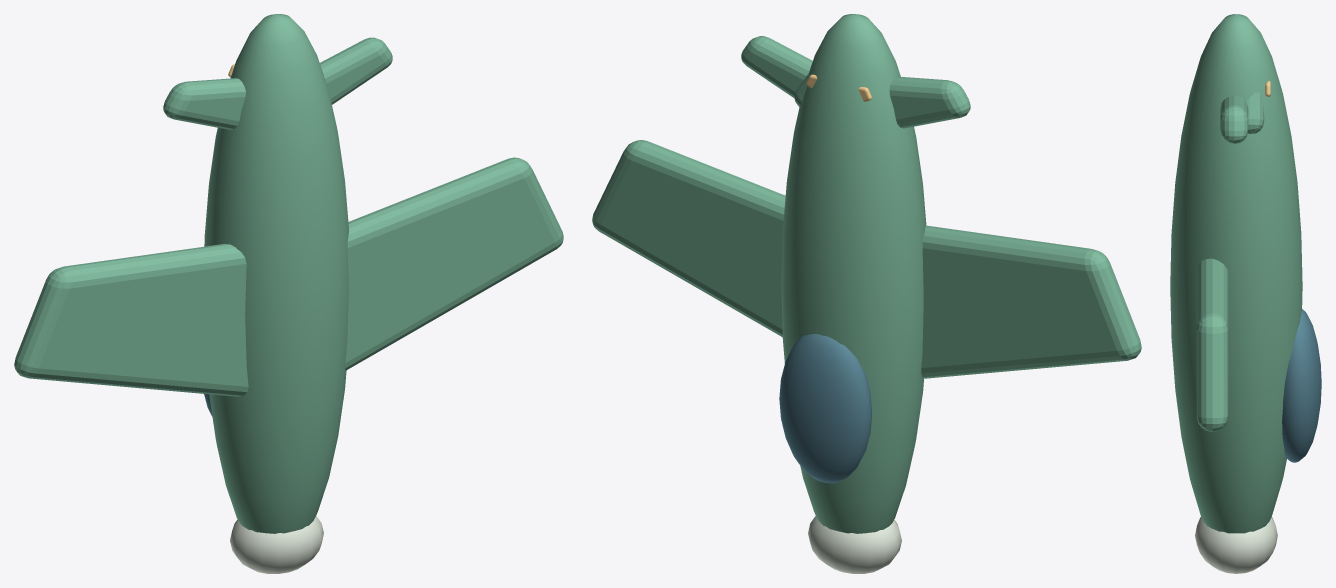
3 views of the same model, side by side, from view 1: azimuth 30°, elevation 25°; view 2: azimuth 150°, elevation 25°; view 3: azimuth 270°, elevation 25° (orthographic).
Parts seen in each view (by area): view 1: Airframe • rounded fuselage, Airframe • swept main wings, Airframe • horizontal tail, Nose • soft ivory cap; view 2: Airframe • rounded fuselage, Airframe • swept main wings, Cockpit • glossy teal, Airframe • horizontal tail, Nose • soft ivory cap; view 3: Airframe • rounded fuselage, Airframe • swept main wings, Cockpit • glossy teal, Nose • soft ivory cap, Airframe • horizontal tail, Airframe • vertical tail.
Boxes of the visible parts, x1=… form: Airframe • rounded fuselage: x1=204, y1=14, x2=349, y2=533; Airframe • swept main wings: x1=14, y1=157, x2=563, y2=396; Airframe • horizontal tail: x1=163, y1=37, x2=392, y2=129; Nose • soft ivory cap: x1=230, y1=516, x2=323, y2=573; Airframe • rounded fuselage: x1=781, y1=14, x2=926, y2=533; Airframe • swept main wings: x1=592, y1=140, x2=1141, y2=378; Cockpit • glossy teal: x1=779, y1=334, x2=871, y2=483; Airframe • horizontal tail: x1=741, y1=36, x2=970, y2=128; Nose • soft ivory cap: x1=808, y1=516, x2=901, y2=573; Airframe • rounded fuselage: x1=1170, y1=14, x2=1302, y2=533; Airframe • swept main wings: x1=1196, y1=258, x2=1228, y2=431; Cockpit • glossy teal: x1=1282, y1=309, x2=1321, y2=462; Nose • soft ivory cap: x1=1195, y1=517, x2=1277, y2=573; Airframe • horizontal tail: x1=1220, y1=14, x2=1248, y2=143; Airframe • vertical tail: x1=1246, y1=92, x2=1264, y2=133.
Bounding box in the file's own units: 0.787 × 0.765 × 0.19.
